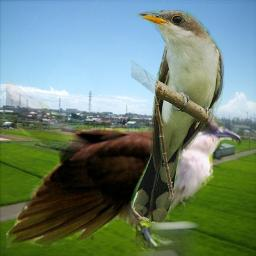Cuckoo: (6, 22, 245, 256), (131, 10, 225, 223)
